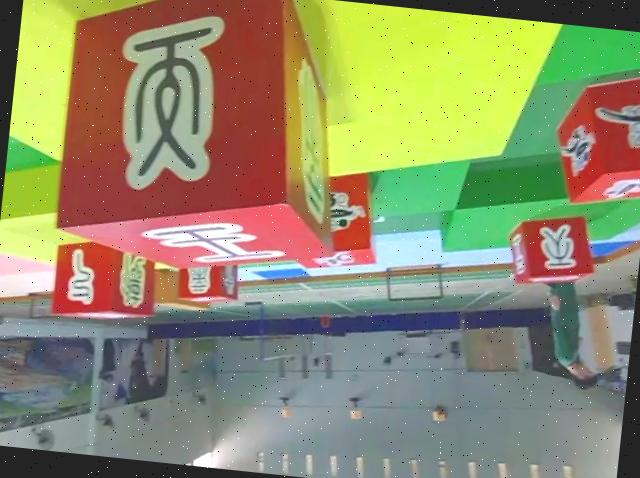R1: (547, 56, 640, 212), (282, 161, 388, 271)
R2 Fake: (47, 0, 354, 288), (49, 234, 164, 330), (505, 205, 602, 297), (174, 248, 244, 309)
